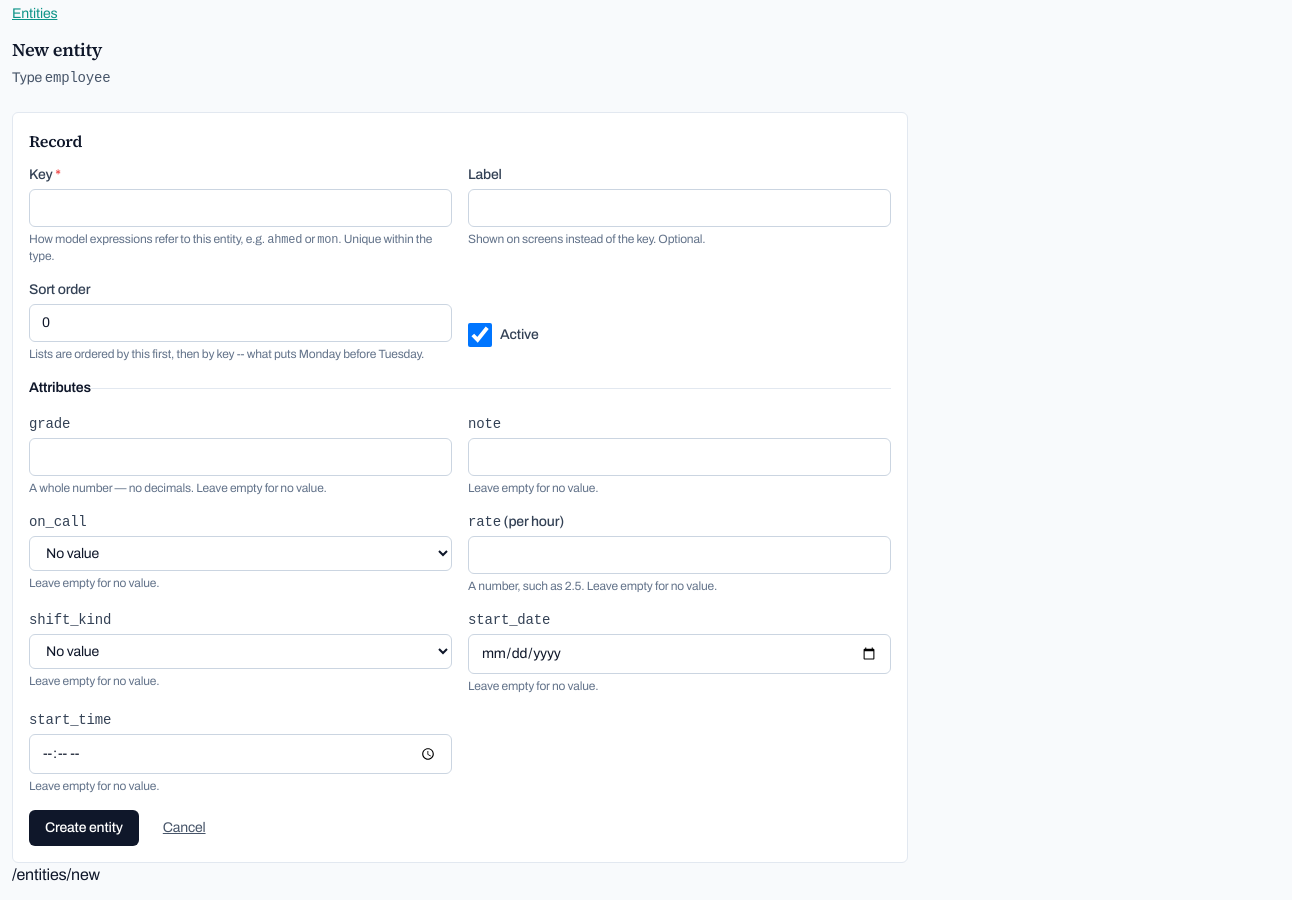
Test: EntityRecord: creating an entity › refuses an empty key without asking the server, even though the server would accept it
This screenshot has width=1292, height=900.
Expected: the field labelled "grade" is shown, [29,438,452,476]
Click the button "Create entity". click: coordinates (84, 828)
box: [29,810,139,846]
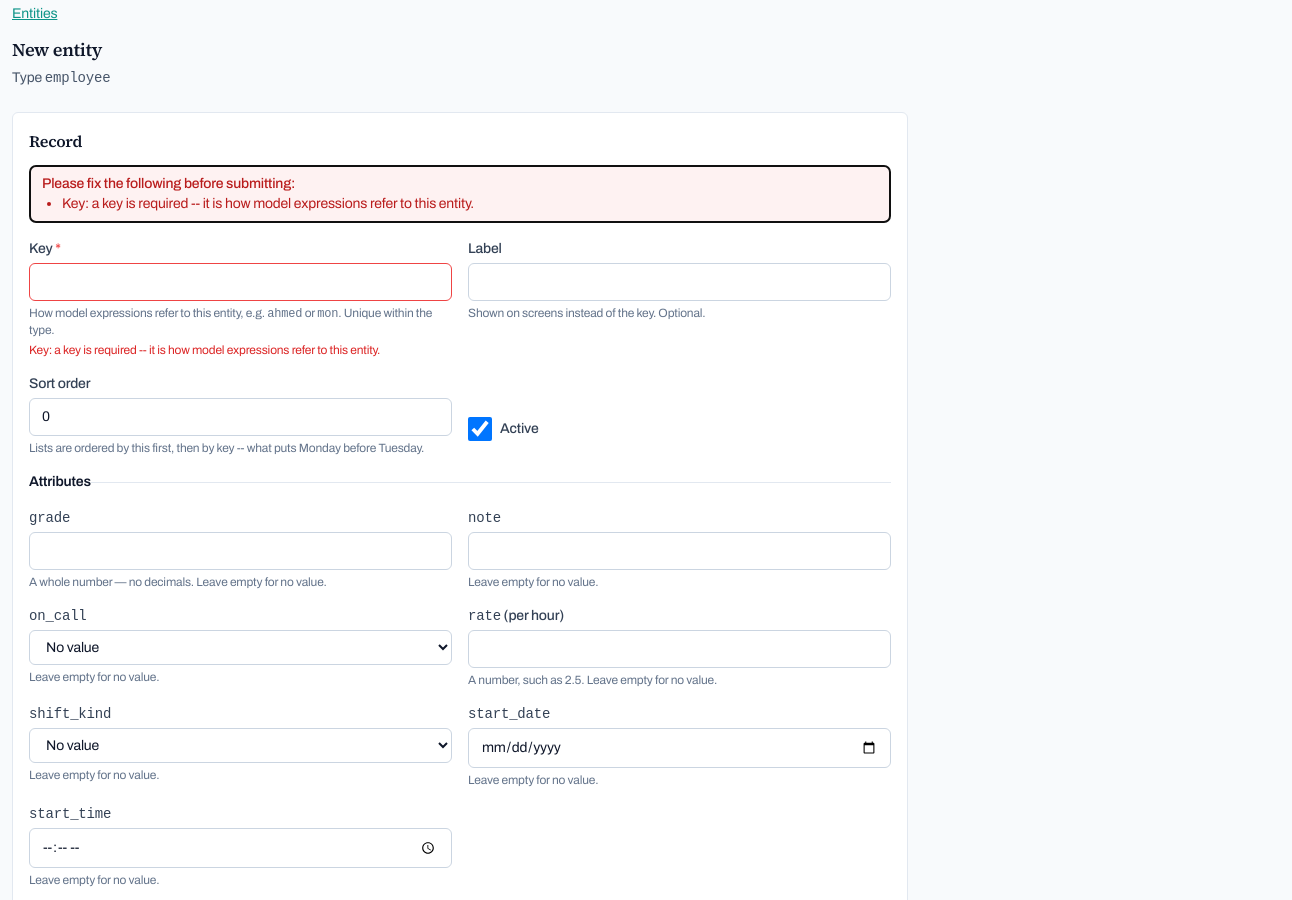
Expected: the message with test id "form-errors" is shown, [29,165,891,223]
Expected: the message with test id "form-errors" shows "Key", [62,196,474,211]
